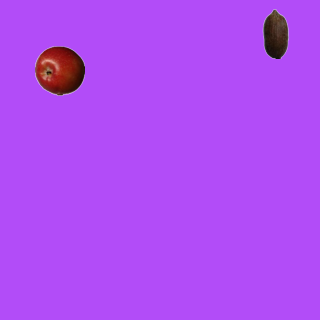Apple Braeburn: (34, 45, 84, 95)
Nut Pecan: (250, 8, 300, 58)
